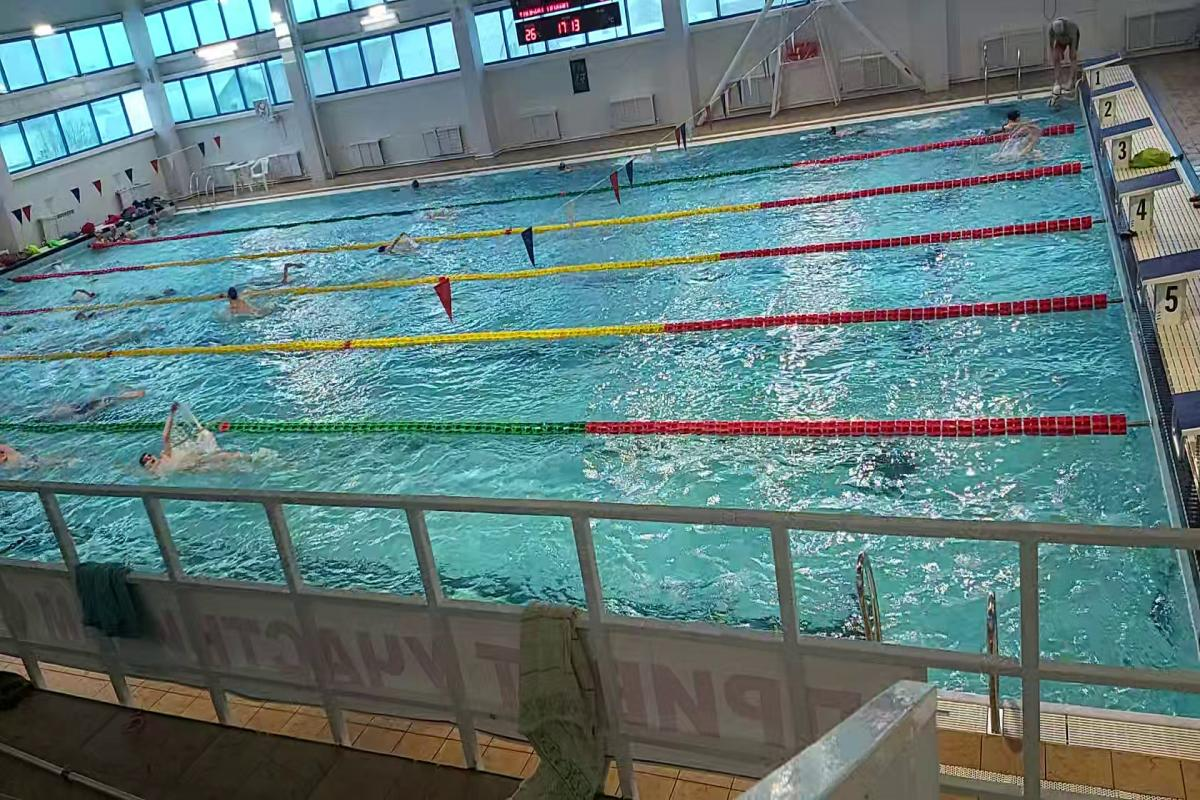swimmer: (142, 410, 261, 476), (46, 378, 147, 410), (215, 280, 278, 324), (3, 441, 73, 471), (377, 230, 420, 262)
